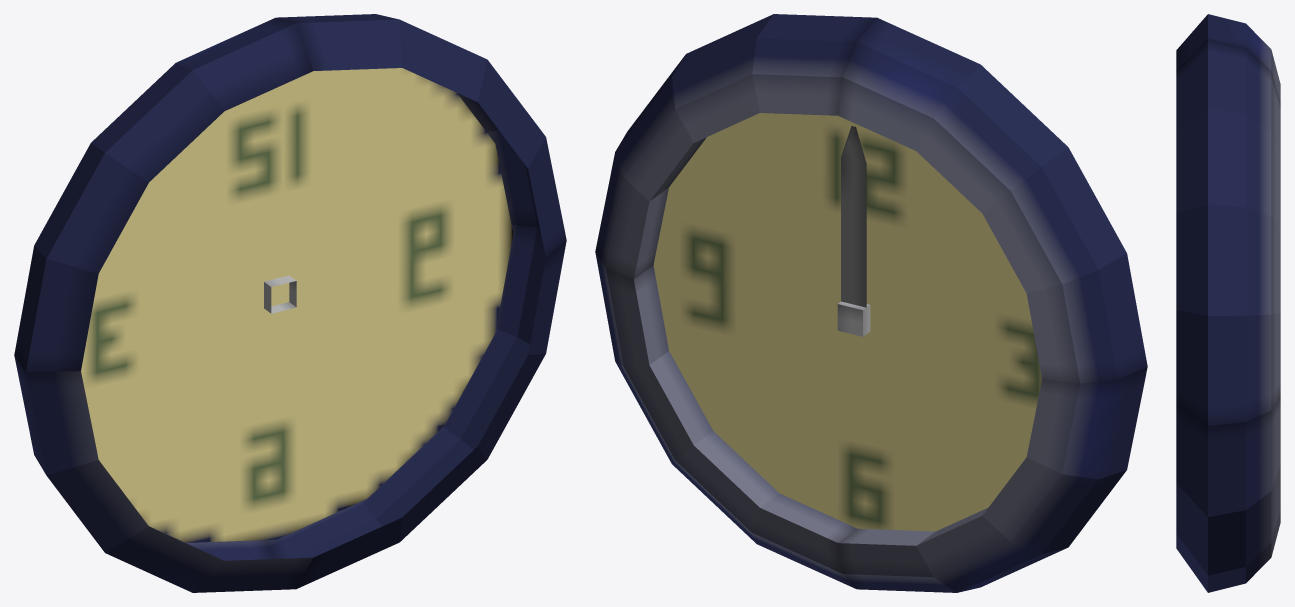
The model's file is SM_Clock.fbx.
3 renders of one model, left to right at view 1: azimuth 30°, elevation 25°; view 2: azimuth 150°, elevation 25°; view 3: azimuth 270°, elevation 25°, orthographic. The views are drawn at different scales.
Parts seen in each view (by area): view 1: Clock.001; view 2: Clock.001; view 3: Clock.001.
Boxes of the visible parts, box(x1,y1,x2,y2) form: Clock.001: box(14, 14, 566, 592); Clock.001: box(595, 14, 1147, 592); Clock.001: box(1176, 14, 1280, 592).
Bounding box in the file's own units: 25.47 × 25.47 × 4.6.
